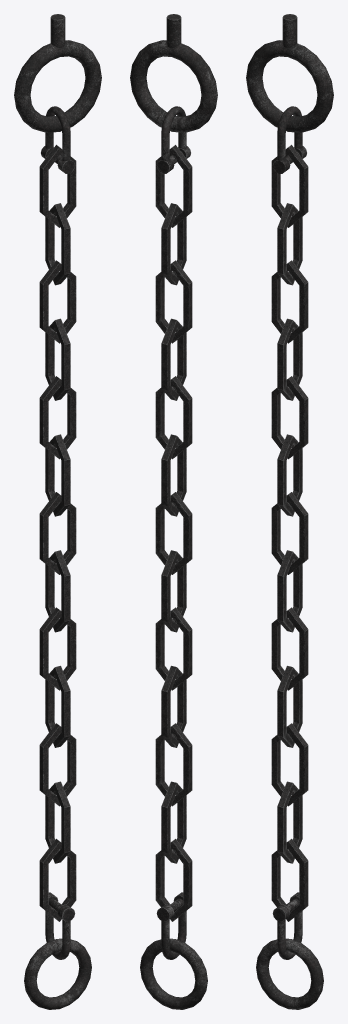
File: chain_02_long.fbx
3 renders of one model, left to right at view 1: azimuth 30°, elevation 25°; view 2: azimuth 150°, elevation 25°; view 3: azimuth 330°, elevation 25°, orthographic.
Parts seen in each view (by area): view 1: chain_02_long; view 2: chain_02_long; view 3: chain_02_long.
Part boxes in pixels (x1,y1,x2,y2): chain_02_long: [14, 14, 101, 1009]; chain_02_long: [130, 14, 217, 1009]; chain_02_long: [246, 14, 333, 1009].
Bounding box in the file's own units: 32.56 × 360 × 14.13.
